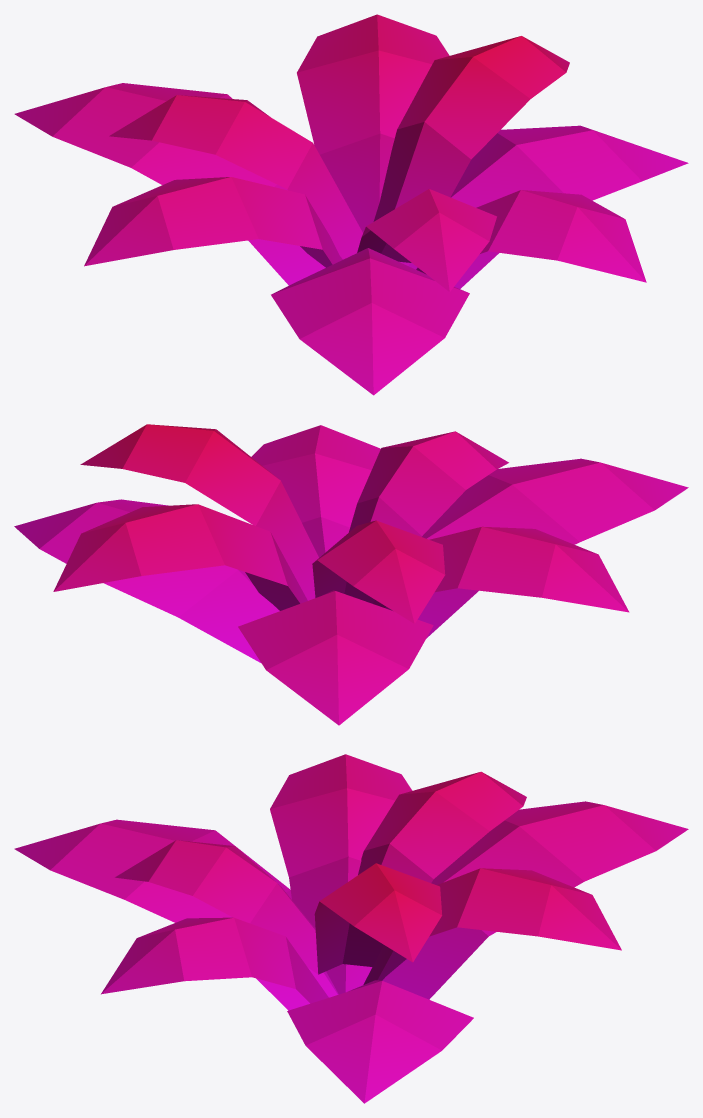
File: SM_Gen_Env_Fern_03.glb
3 views of the same model, one above another, from view 1: azimuth 30°, elevation 25°; view 2: azimuth 150°, elevation 25°; view 3: azimuth 270°, elevation 25° (orthographic). The views are drawn at different scales.
Visible parts, largest first — view 1: SM_Gen_Env_Fern_032; view 2: SM_Gen_Env_Fern_032; view 3: SM_Gen_Env_Fern_032.
Boxes of the visible parts, bbox=[...] form: SM_Gen_Env_Fern_032: bbox=[14, 14, 688, 395]; SM_Gen_Env_Fern_032: bbox=[14, 424, 688, 725]; SM_Gen_Env_Fern_032: bbox=[14, 754, 688, 1103].
Size of the model in its own units: 1.7 by 0.5829 by 1.71.
